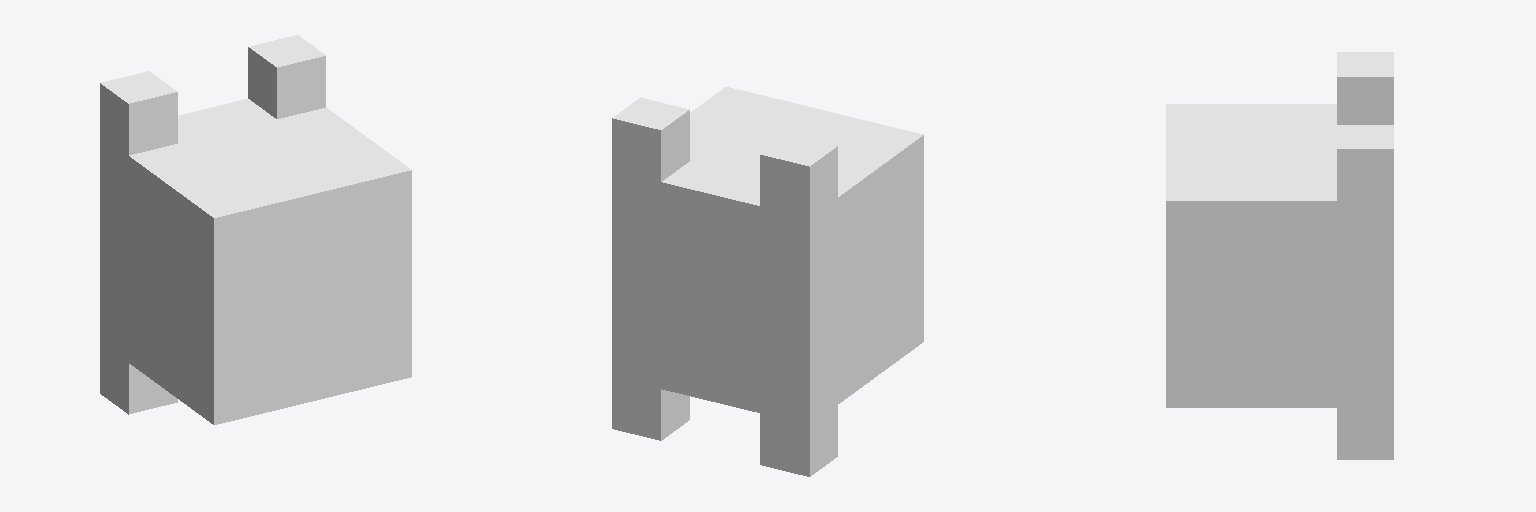
Rendered from bat_Head.obj.
3 renders of one model, left to right at view 1: azimuth 30°, elevation 25°; view 2: azimuth 150°, elevation 25°; view 3: azimuth 270°, elevation 25°, orthographic.
Size of the model in its own units: 4 by 6 by 4.